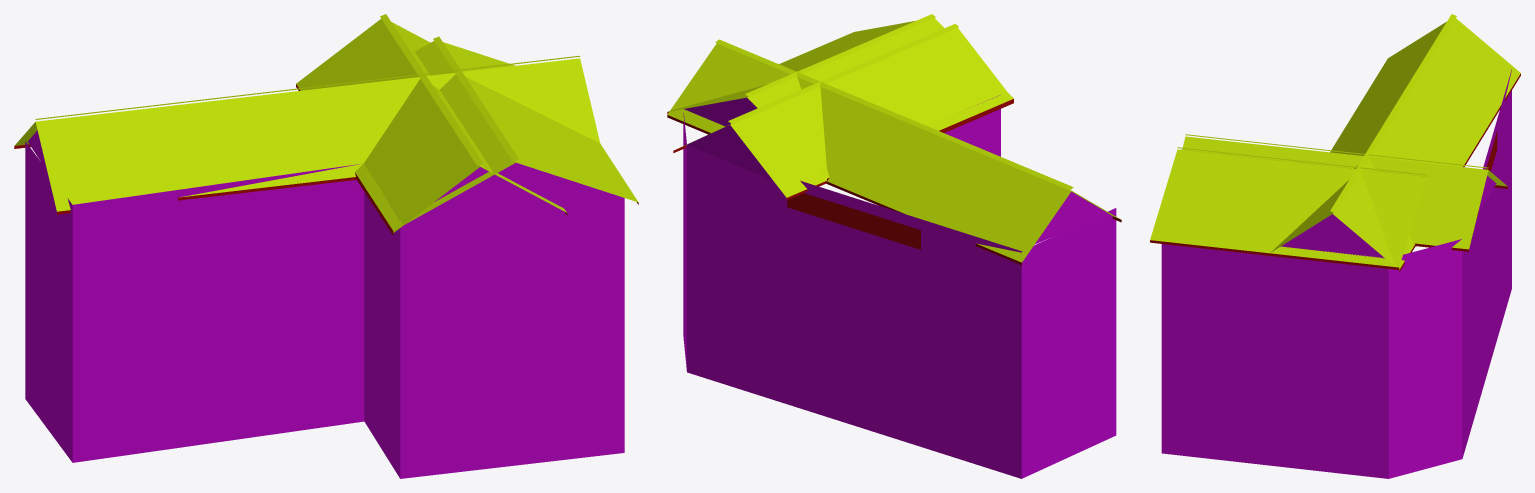
The picture shows the model from 3 angles, left to right: view 1: azimuth 30°, elevation 25°; view 2: azimuth 150°, elevation 25°; view 3: azimuth 270°, elevation 25°; orthographic projection. The views are drawn at different scales.
Parts seen in each view (by area): view 1: sc_93; view 2: sc_93; view 3: sc_93.
Part boxes in pixels (box(x1,y1,x2,y2)): sc_93: box(14, 14, 638, 478); sc_93: box(667, 14, 1121, 478); sc_93: box(1150, 14, 1520, 478).
Bounding box in the file's own units: 21.49 × 12.54 × 15.9.
